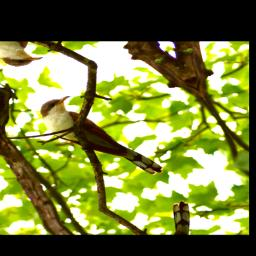Cuckoo: (31, 83, 166, 196)
